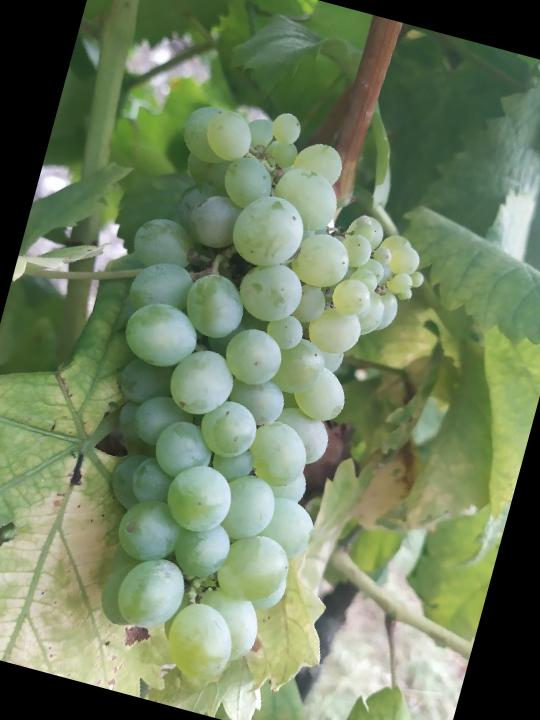grape: (24, 80, 460, 713)
